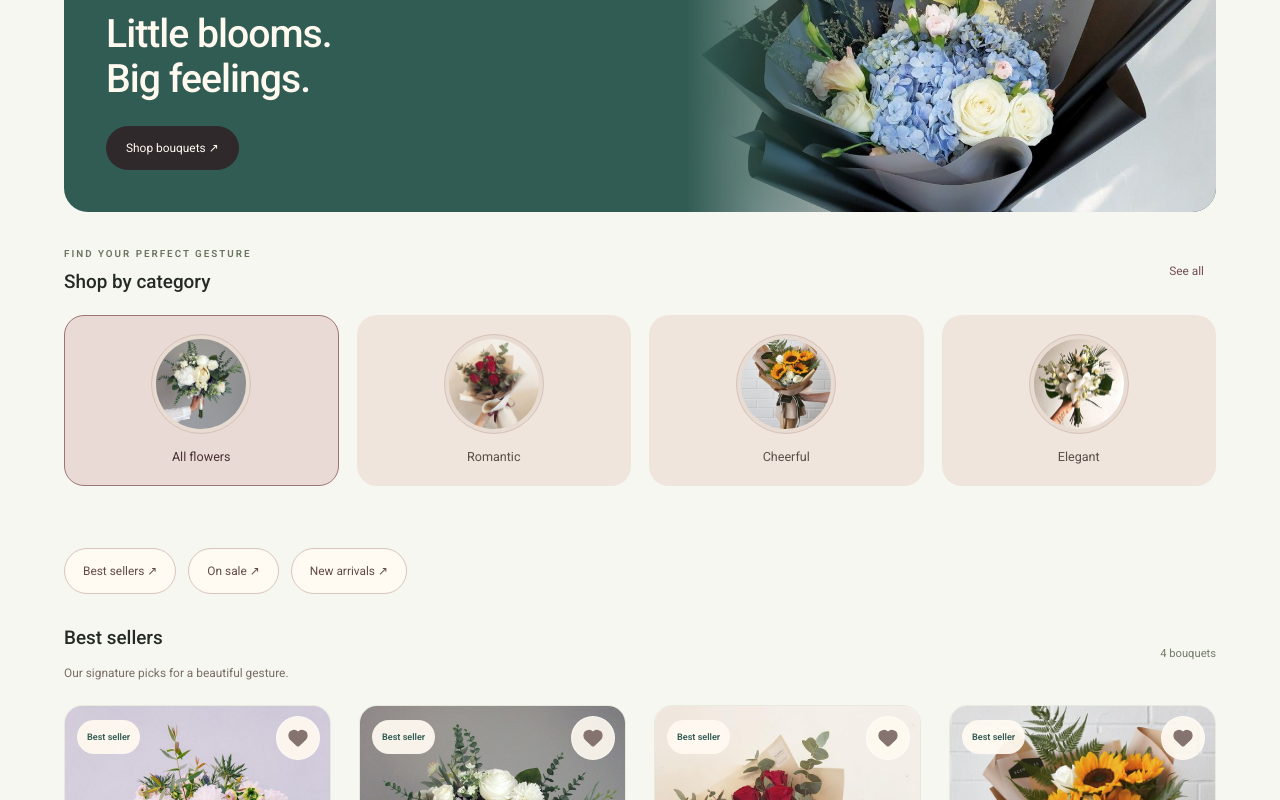
Scenario: filters by feeling and opens a bouquet detail view with a working add button
Later steps or results of the test are not shown.
(page scrolled)
Step 1. Click the button "Romantic" → (494, 400), box [356,315,631,486]
(page scrolled)
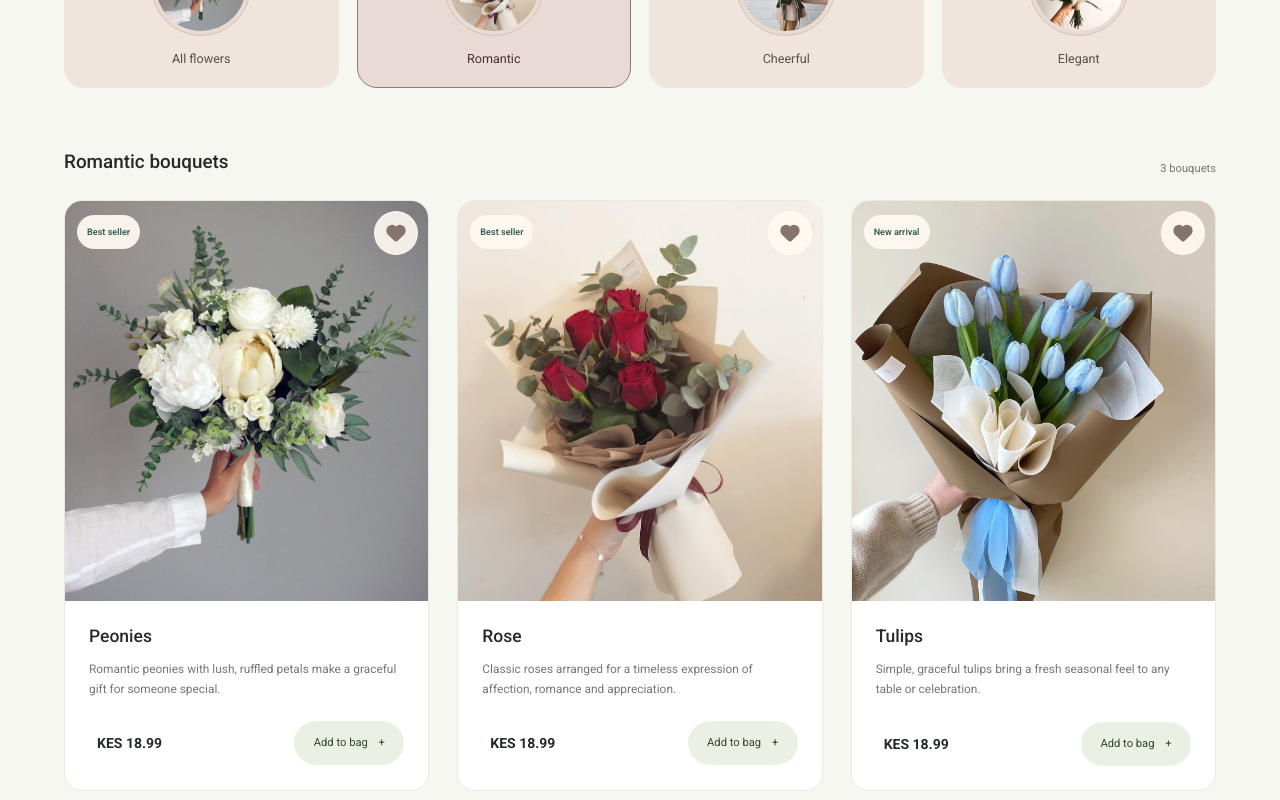
Step 2. Click the button named "View Rose bouquet" → (640, 401), box [458,201,822,601]
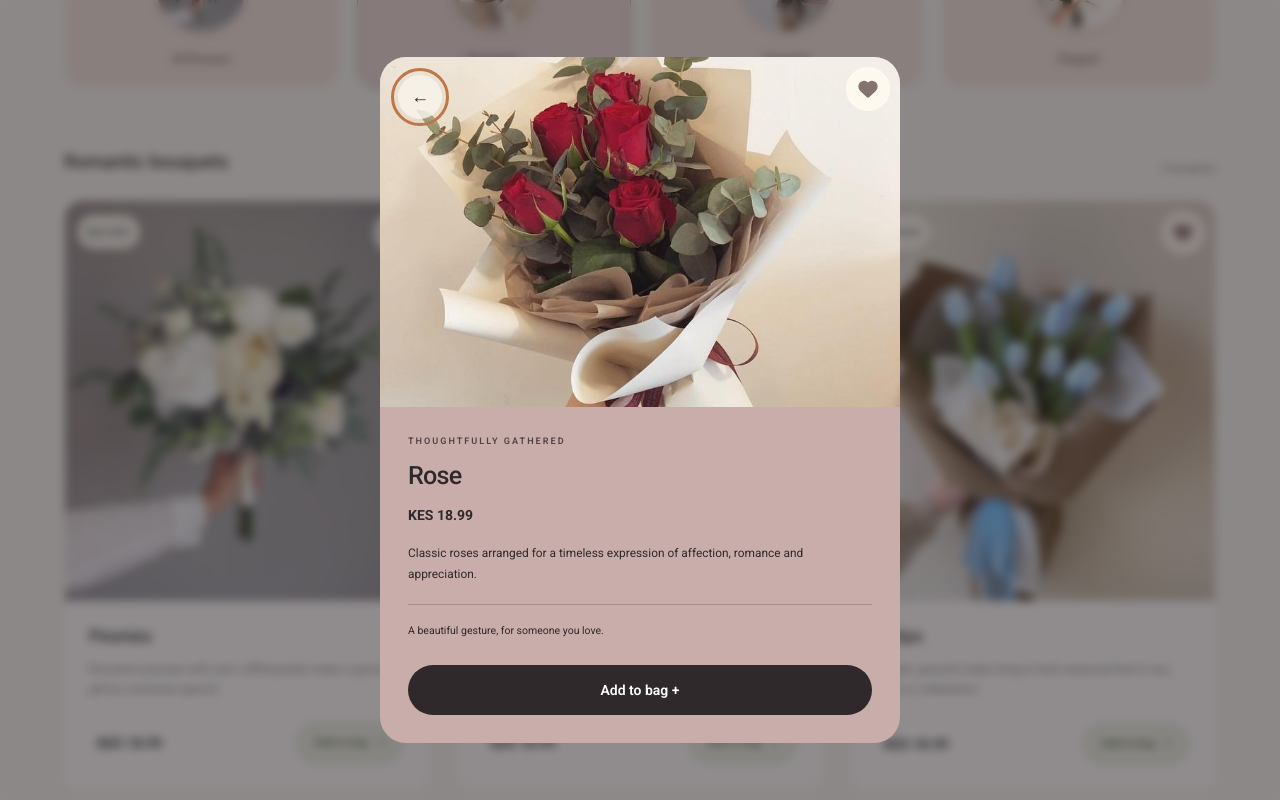
Step 3. Click the button "Add to bag +" → (640, 690), box [408,665,872,715]
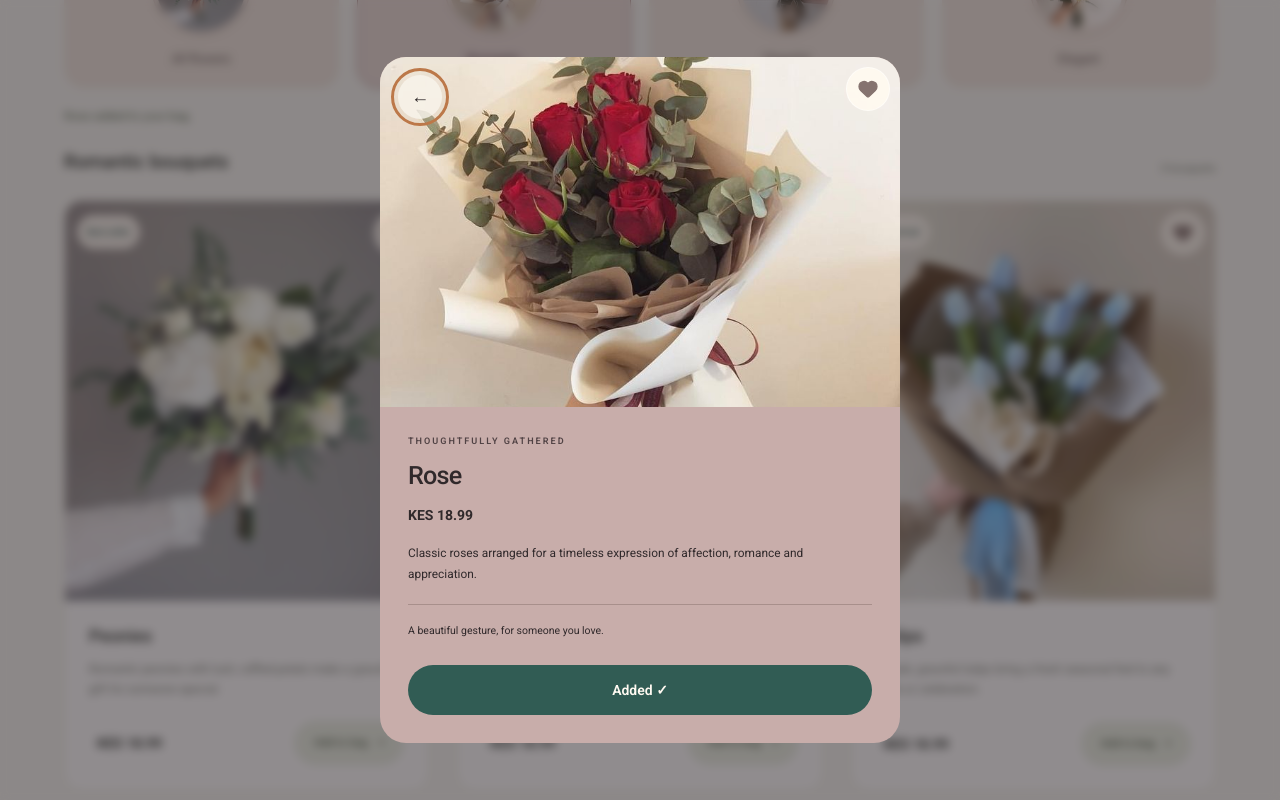
Check: the button "Added ✓" is shown, box [408,665,872,715]
